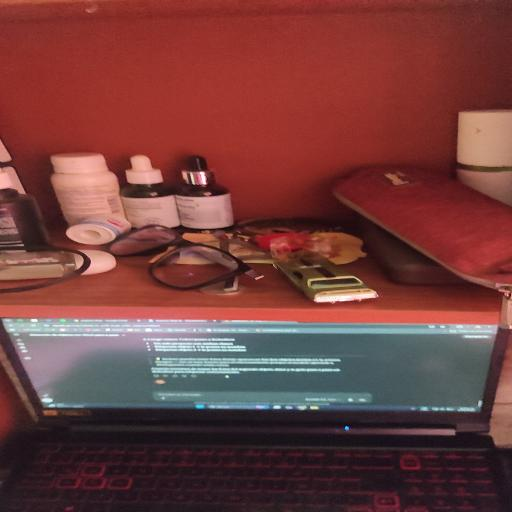Carrito: (274, 252, 378, 303)
